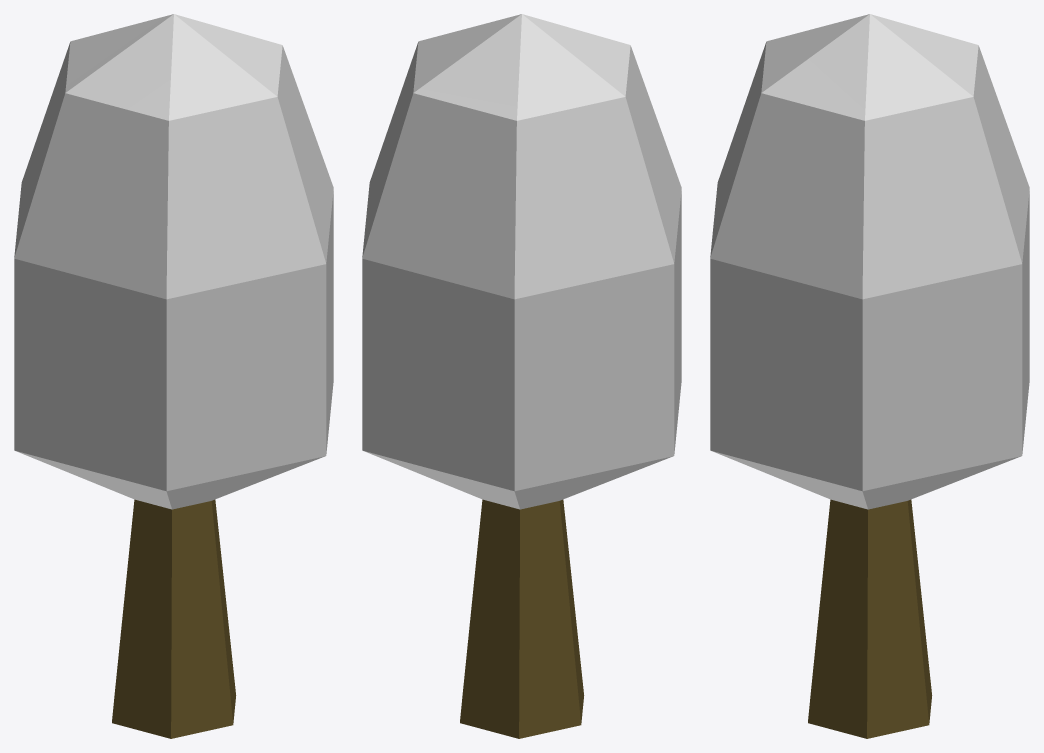
File: Vegetation_Tree_Common_Winter_02.fbx
3 views of the same model, side by side, from view 1: azimuth 30°, elevation 25°; view 2: azimuth 150°, elevation 25°; view 3: azimuth 270°, elevation 25° (orthographic).
Visible parts, largest first — view 1: Vegetation_Tree_Common_Winter_02; view 2: Vegetation_Tree_Common_Winter_02; view 3: Vegetation_Tree_Common_Winter_02.
Boxes of the visible parts, x1,y1,x2,y2 form: Vegetation_Tree_Common_Winter_02: [14, 14, 333, 738]; Vegetation_Tree_Common_Winter_02: [362, 14, 681, 738]; Vegetation_Tree_Common_Winter_02: [710, 14, 1029, 738].
Size of the model in its own units: 1488 by 3167 by 1319.
